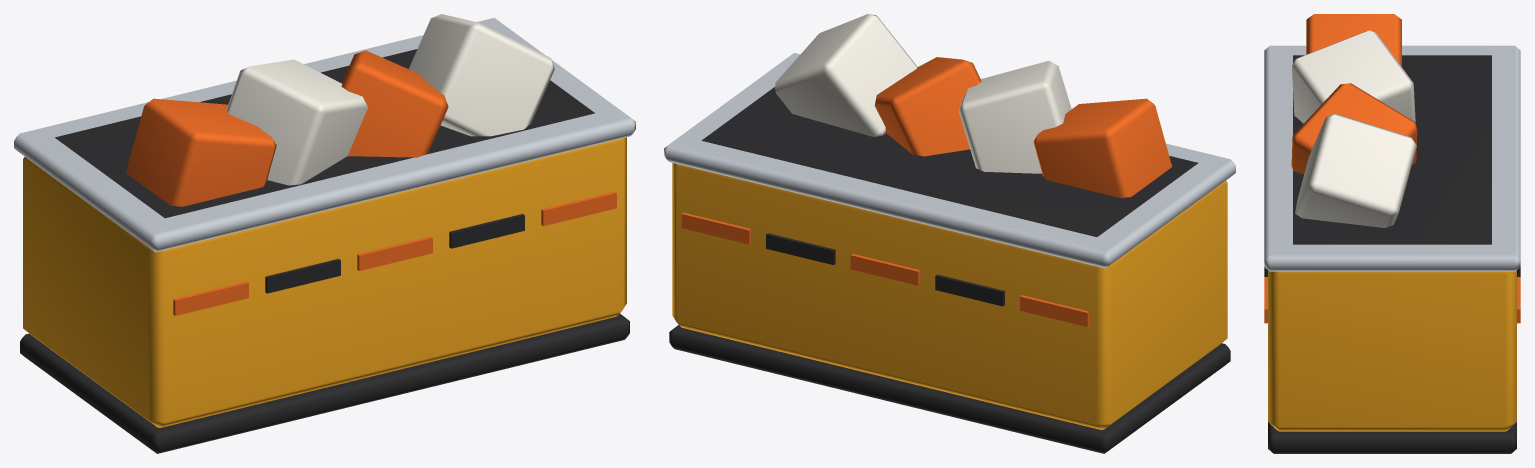
File: skip_dumpster.glb
3 renders of one model, left to right at view 1: azimuth 30°, elevation 25°; view 2: azimuth 150°, elevation 25°; view 3: azimuth 270°, elevation 25°, orthographic. The views are drawn at different scales.
Parts seen in each view (by area): view 1: skip_dumpster; view 2: skip_dumpster; view 3: skip_dumpster.
Boxes of the visible parts, x1,y1,x2,y2 form: skip_dumpster: (14, 14, 635, 453); skip_dumpster: (664, 14, 1235, 453); skip_dumpster: (1264, 14, 1520, 453).
Size of the model in its own units: 2.64 by 1.66 by 1.34.
